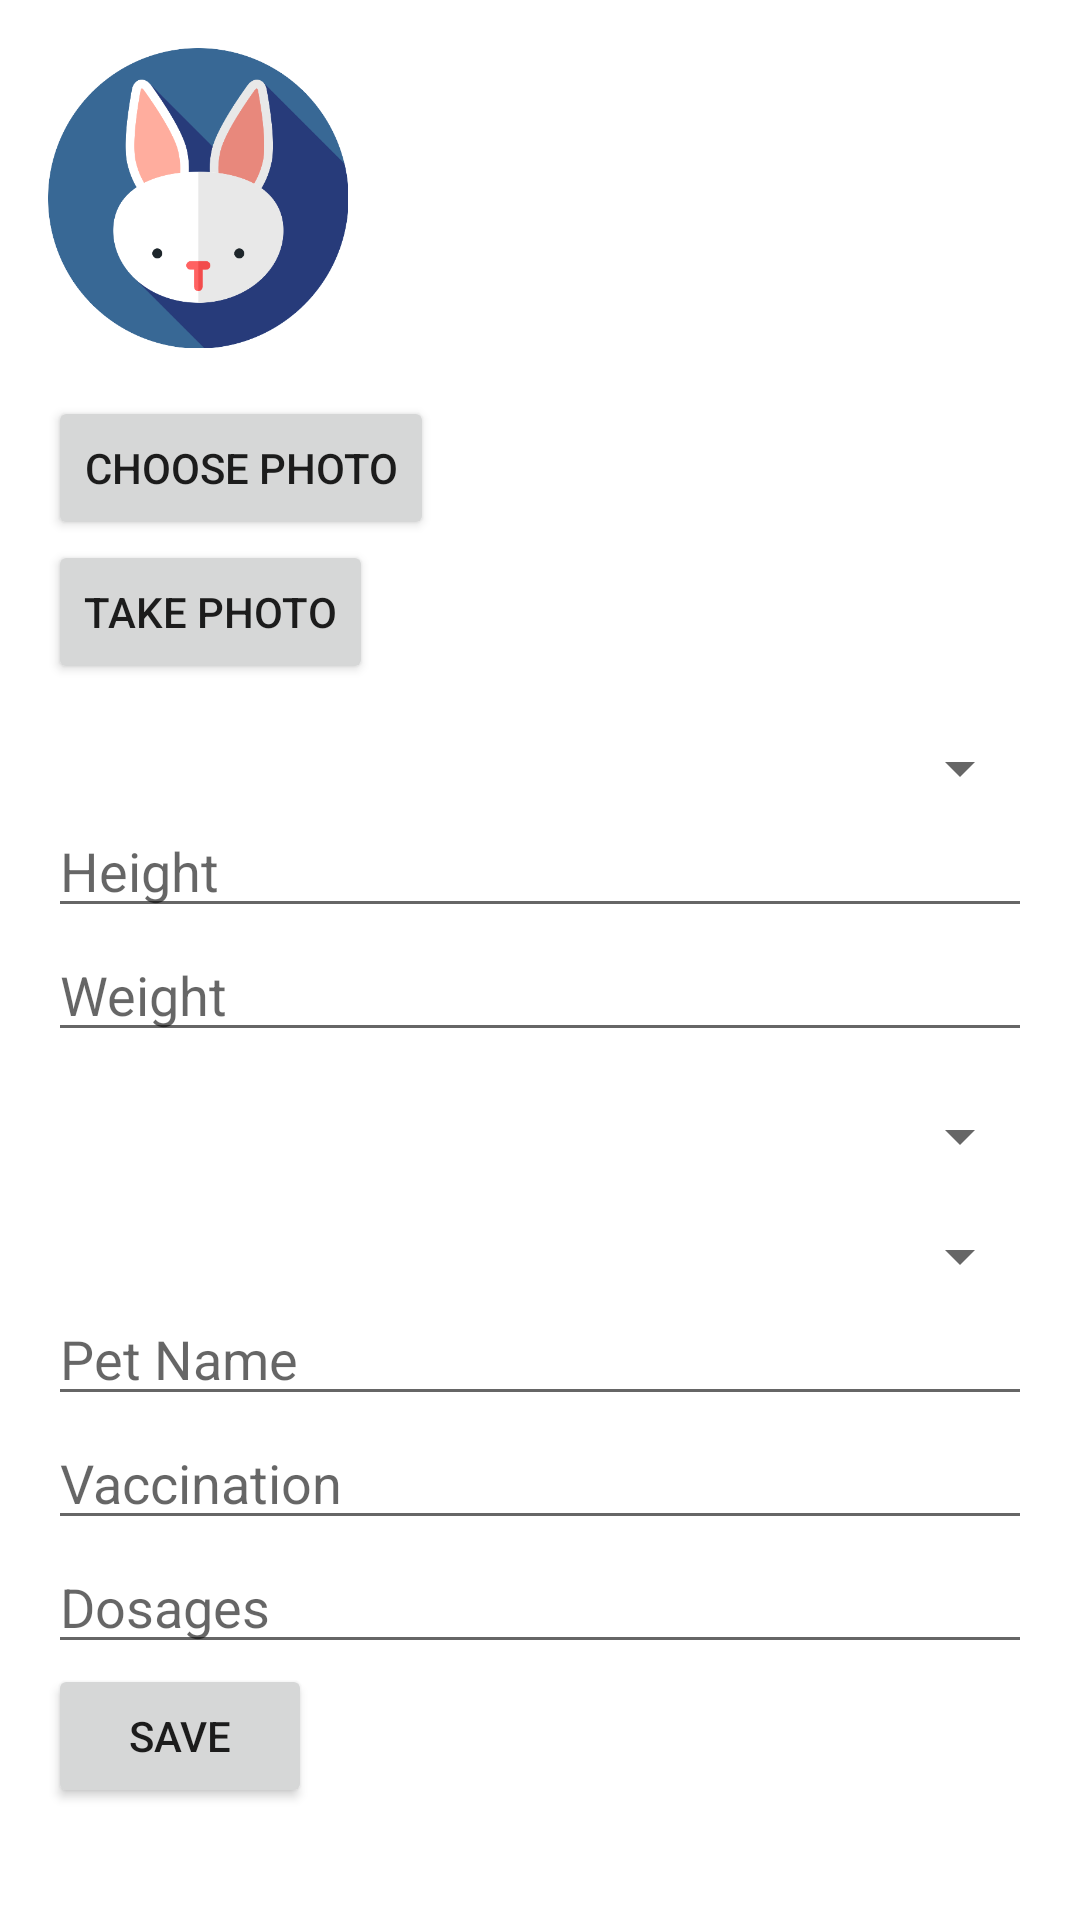

Screen size 1080px×1920px. Icon name, then its box in pixels as box=[x1, y1, x2, y2]:
rabit: box=[48, 48, 348, 348]
